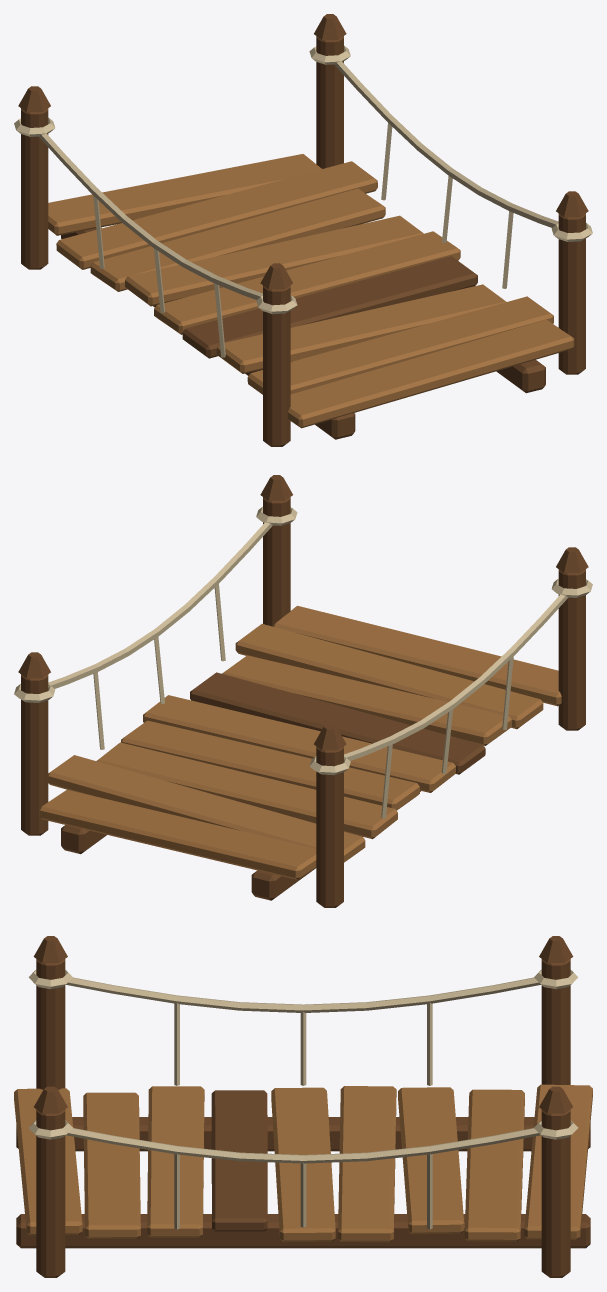
The model's file is Bridge.fbx.
The picture shows the model from 3 angles, top to bottom: view 1: azimuth 30°, elevation 25°; view 2: azimuth 150°, elevation 25°; view 3: azimuth 270°, elevation 25°; orthographic projection. The views are drawn at different scales.
Parts seen in each view (by area): view 1: Bridge; view 2: Bridge; view 3: Bridge.
Part boxes in pixels (bbox=[...]): Bridge: bbox=[14, 14, 592, 446]; Bridge: bbox=[14, 475, 592, 907]; Bridge: bbox=[14, 936, 592, 1277].
Bounding box in the file's own units: 0.698 × 0.3545 × 1.01.
